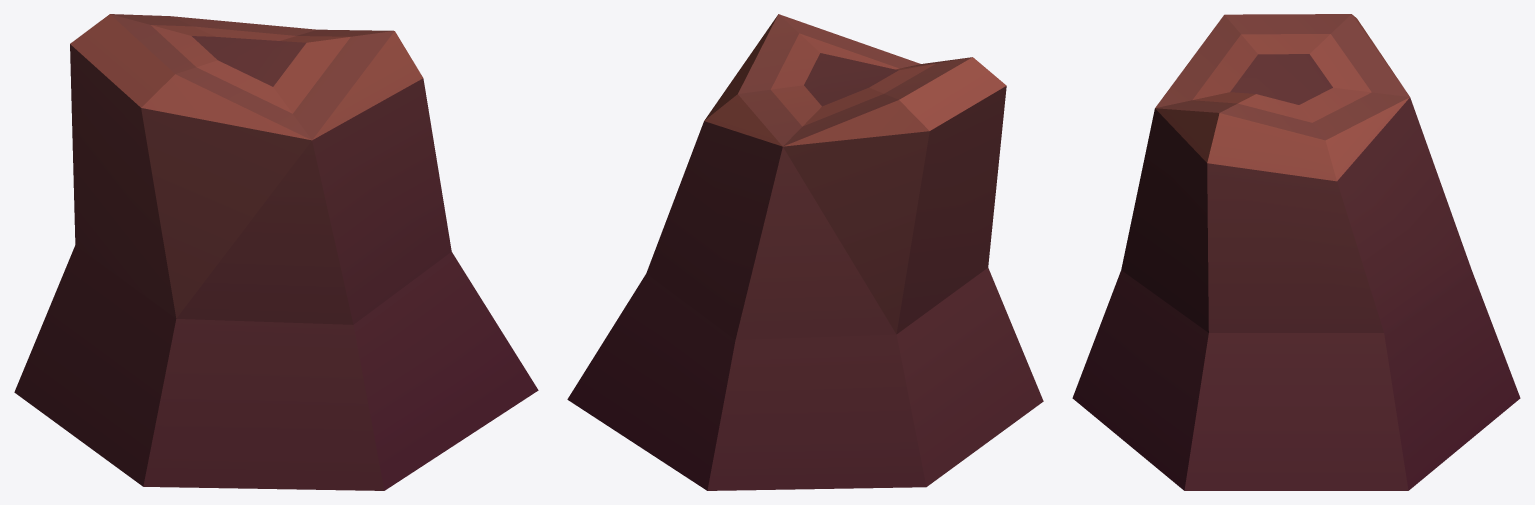
File: pine8.glb
The picture shows the model from 3 angles, left to right: view 1: azimuth 30°, elevation 25°; view 2: azimuth 150°, elevation 25°; view 3: azimuth 270°, elevation 25°; orthographic projection. The views are drawn at different scales.
Visible parts, largest first — view 1: pine8; view 2: pine8; view 3: pine8.
Part boxes in pixels (x1,y1,x2,y2): pine8: [14, 14, 538, 490]; pine8: [567, 14, 1043, 490]; pine8: [1072, 14, 1520, 490].
Size of the model in its own units: 1.67 by 1.56 by 1.88.
1 material, 1 textured.
